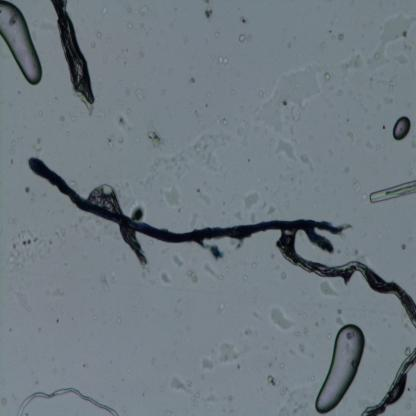Air bubble: (312, 322, 367, 413), (0, 0, 45, 88), (392, 116, 411, 140)
Background material: (256, 65, 322, 132), (151, 129, 230, 182), (366, 13, 416, 71), (6, 220, 66, 263), (202, 338, 247, 369), (87, 181, 126, 216), (370, 181, 416, 202), (279, 388, 312, 414), (336, 49, 363, 80), (282, 335, 310, 360), (168, 372, 196, 396), (270, 306, 296, 331), (240, 298, 264, 325), (275, 136, 299, 161), (14, 284, 32, 315), (82, 96, 104, 120), (147, 120, 163, 150), (242, 187, 260, 213), (161, 186, 182, 207), (319, 280, 342, 299), (204, 262, 224, 282), (158, 266, 175, 288), (116, 113, 133, 134), (299, 153, 316, 174), (31, 137, 44, 157), (196, 188, 212, 204), (186, 268, 201, 284), (58, 110, 72, 127), (45, 284, 62, 298), (381, 92, 395, 108), (171, 252, 184, 269), (267, 372, 280, 388), (100, 271, 109, 294), (204, 1, 214, 21), (352, 178, 363, 196), (388, 76, 398, 94), (100, 4, 110, 22), (136, 88, 147, 103), (216, 300, 226, 316), (217, 54, 230, 66), (191, 211, 199, 230), (217, 114, 228, 126), (364, 137, 374, 150), (241, 268, 250, 282), (106, 136, 115, 150), (141, 5, 151, 17), (266, 205, 276, 216), (240, 16, 249, 28), (238, 34, 247, 46), (323, 71, 332, 82), (336, 88, 344, 98), (350, 130, 356, 143), (126, 20, 133, 31), (23, 186, 32, 194), (280, 270, 286, 281), (400, 243, 408, 251), (382, 119, 386, 133), (96, 31, 102, 40), (338, 32, 344, 41), (190, 74, 195, 84), (214, 31, 220, 38)
Cellulose filter fibre: (277, 240, 416, 328), (50, 0, 96, 104), (363, 346, 416, 414), (15, 385, 118, 415), (115, 225, 150, 269)
Cotton: (28, 158, 346, 243)
